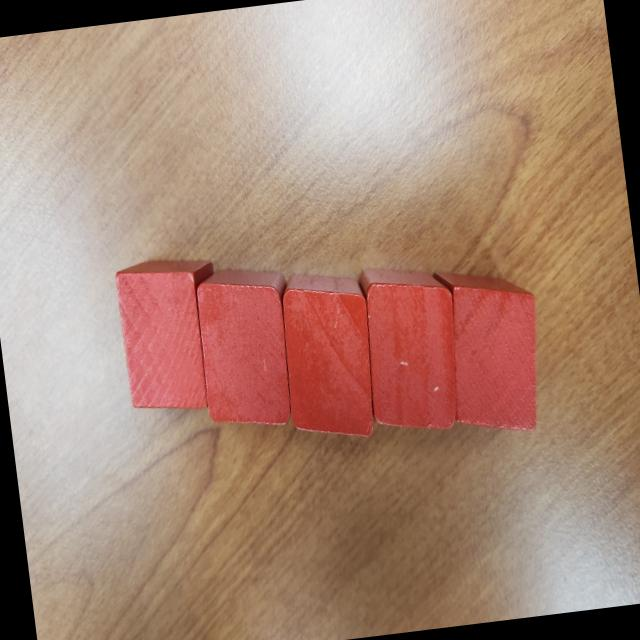red: (431, 258, 551, 441), (354, 257, 468, 440), (112, 250, 230, 420), (274, 272, 383, 448), (190, 262, 302, 432)
